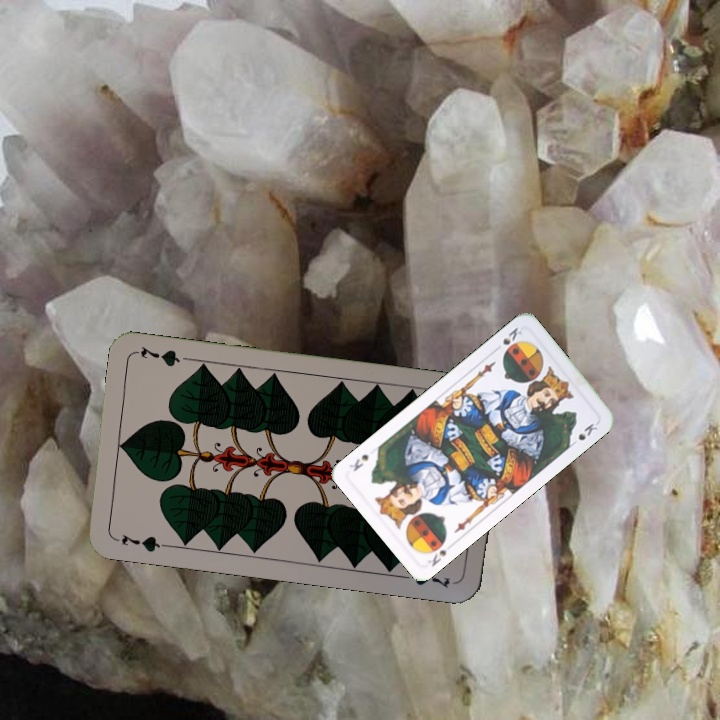G7: (118, 530, 169, 555)
SK: (499, 323, 524, 355), (424, 546, 449, 569)
